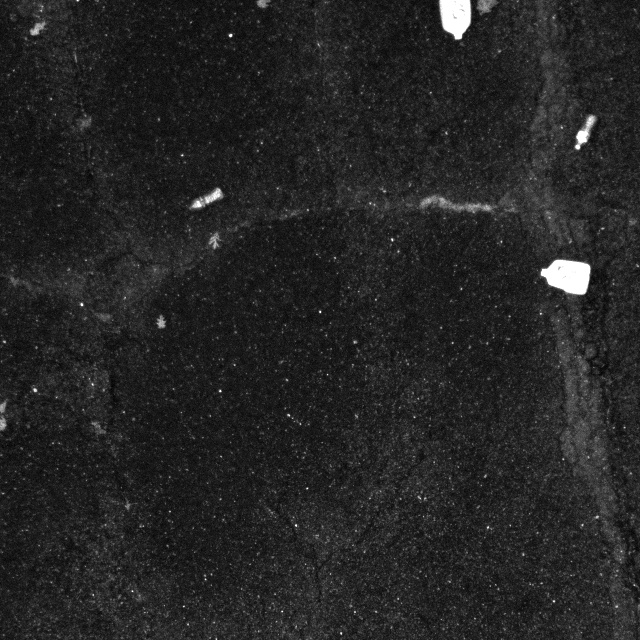bottle: (166, 183, 229, 214), (567, 110, 602, 150)
can: (528, 252, 602, 305)
